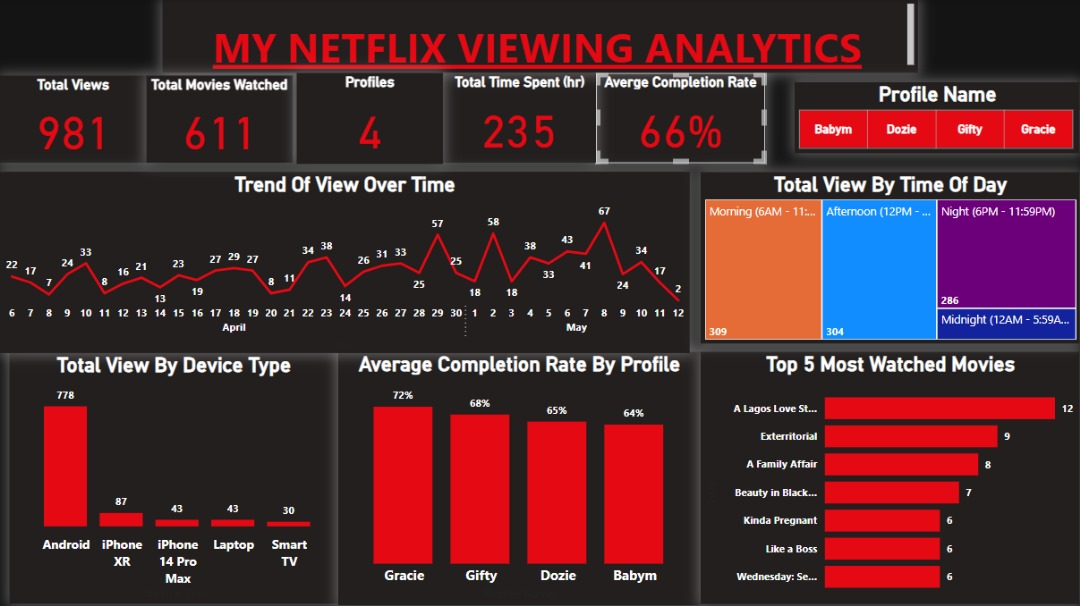

What the dashboard file says about the page in this screenshot:
{"tool":"powerbi","page":{"name":"Page 1","canvas":[1280,720],"ordinal":0},"visuals":[{"type":"card","title":"Total Views","fields":{"Values":["ViewingActivity.Device Type"]},"box":[0,90.7,173.4,103.4],"z":0},{"type":"clusteredColumnChart","title":"Total View By Device Type","fields":{"Y":["ViewingActivity.Bookmark"],"Category":["ViewingActivity.Device Type"]},"box":[11.1,419.9,389.7,297.4],"z":1000},{"type":"card","title":"Averge Completion Rate","fields":{"Values":["ViewingActivity.Completion Rate"]},"box":[706.2,87.5,200.4,106.6],"z":2000},{"type":"clusteredColumnChart","title":"Average Completion Rate By Profile","fields":{"Category":["ViewingActivity.Profile Name"],"Y":["ViewingActivity.Completion Rate"]},"box":[400.8,418.3,429.5,300.6],"z":3000},{"type":"card","title":"Total Time Spent (hr)","fields":{"Values":["ViewingActivity.Total_time_spent"]},"box":[524.9,87.5,181.3,106.6],"z":4000},{"type":"clusteredBarChart","title":"Top 5 Most Watched Movies","fields":{"Category":["ViewingActivity.Title"],"Y":["ViewingActivity.Bookmark"]},"box":[830.3,418.3,450.1,299],"z":5000},{"type":"lineChart","title":"Trend Of View Over Time","fields":{"Category":["ViewingActivity.Login+Date.Variation.Date Hierarchy.Month","ViewingActivity.Login+Date.Variation.Date Hierarchy.Day"],"Y":["ViewingActivity.Profile Name"]},"box":[0,205.2,817.6,214.7],"z":6000},{"type":"treemap","title":"Total View By Time Of Day","fields":{"Group":["ViewingActivity.Time_Period"],"Values":["ViewingActivity.Bookmark"]},"box":[830.3,205.2,450.1,203.6],"z":7000},{"type":"textbox","box":[192.5,0,895.5,87.5],"z":8000},{"type":"card","title":"Total Movies Watched","fields":{"Values":["ViewingActivity.Title"]},"box":[173.4,90.7,173.4,103.4],"z":9000},{"type":"card","title":"Profiles","fields":{"Values":["ViewingActivity.Profile Name"]},"box":[351.5,87.5,173.4,108.2],"z":10000},{"type":"advancedSlicerVisual","fields":{"Values":["ViewingActivity.Profile Name"]},"box":[941.6,98.6,338.8,84.3],"z":10001}]}

Visuals, with their boxes in screenshot pixels (x1, y1, x2, y2), scaled from the page's 1280x720 canvas onto the 1080x606 screenshot:
"Total Views" card: box(0, 76, 146, 163)
"Total View By Device Type" clusteredColumnChart: box(9, 353, 338, 604)
"Averge Completion Rate" card: box(596, 74, 765, 163)
"Average Completion Rate By Profile" clusteredColumnChart: box(338, 352, 701, 605)
"Total Time Spent (hr)" card: box(443, 74, 596, 163)
"Top 5 Most Watched Movies" clusteredBarChart: box(701, 352, 1079, 604)
"Trend Of View Over Time" lineChart: box(0, 173, 690, 353)
"Total View By Time Of Day" treemap: box(701, 173, 1079, 344)
textbox: box(162, 0, 918, 74)
"Total Movies Watched" card: box(146, 76, 293, 163)
"Profiles" card: box(297, 74, 443, 165)
advancedSlicerVisual - ViewingActivity.Profile Name: box(794, 83, 1079, 154)
